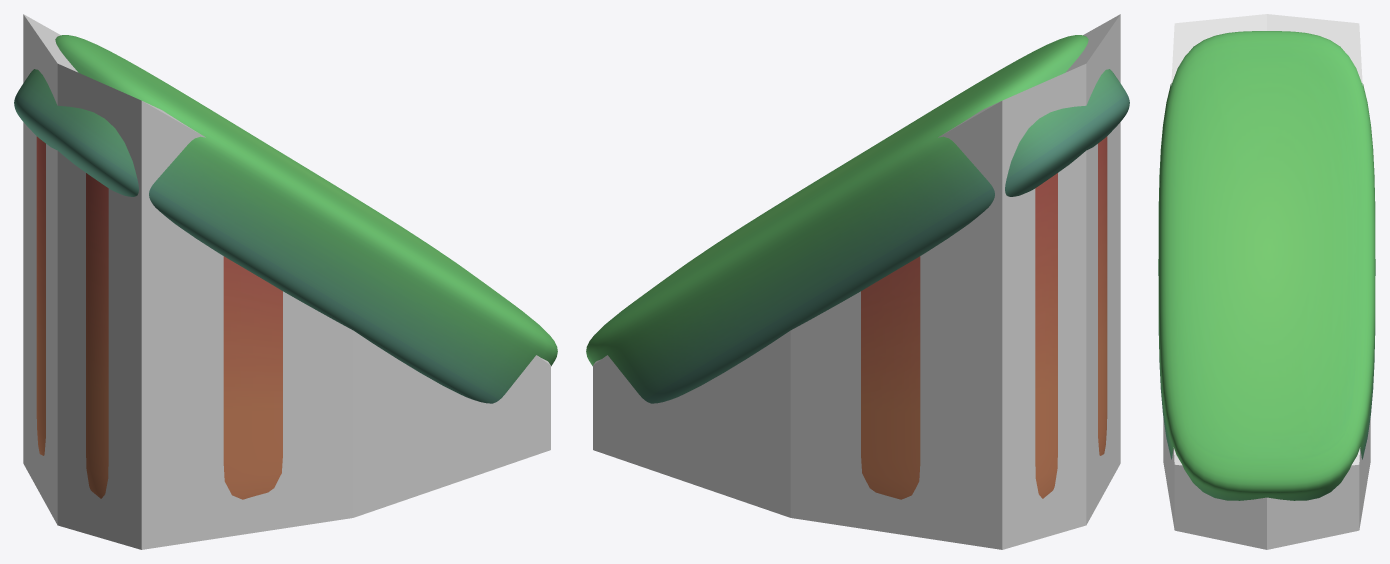
The model's file is SlantMediumMedium.glb.
The picture shows the model from 3 angles, left to right: view 1: azimuth 30°, elevation 25°; view 2: azimuth 150°, elevation 25°; view 3: azimuth 270°, elevation 25°; orthographic projection. The views are drawn at different scales.
Parts seen in each view (by area): view 1: colision-colonly.012, SlantMediumMedium; view 2: colision-colonly.012, SlantMediumMedium; view 3: SlantMediumMedium, colision-colonly.012.
Boxes of the visible parts, bbox=[...] form: colision-colonly.012: bbox=[23, 14, 550, 549]; SlantMediumMedium: bbox=[14, 35, 557, 499]; colision-colonly.012: bbox=[593, 14, 1120, 549]; SlantMediumMedium: bbox=[586, 35, 1129, 499]; SlantMediumMedium: bbox=[1158, 31, 1375, 500]; colision-colonly.012: bbox=[1163, 14, 1370, 549].
Bounding box in the file's own units: 4 × 3.68 × 2.
Materials: 1 (1 with a texture image).
